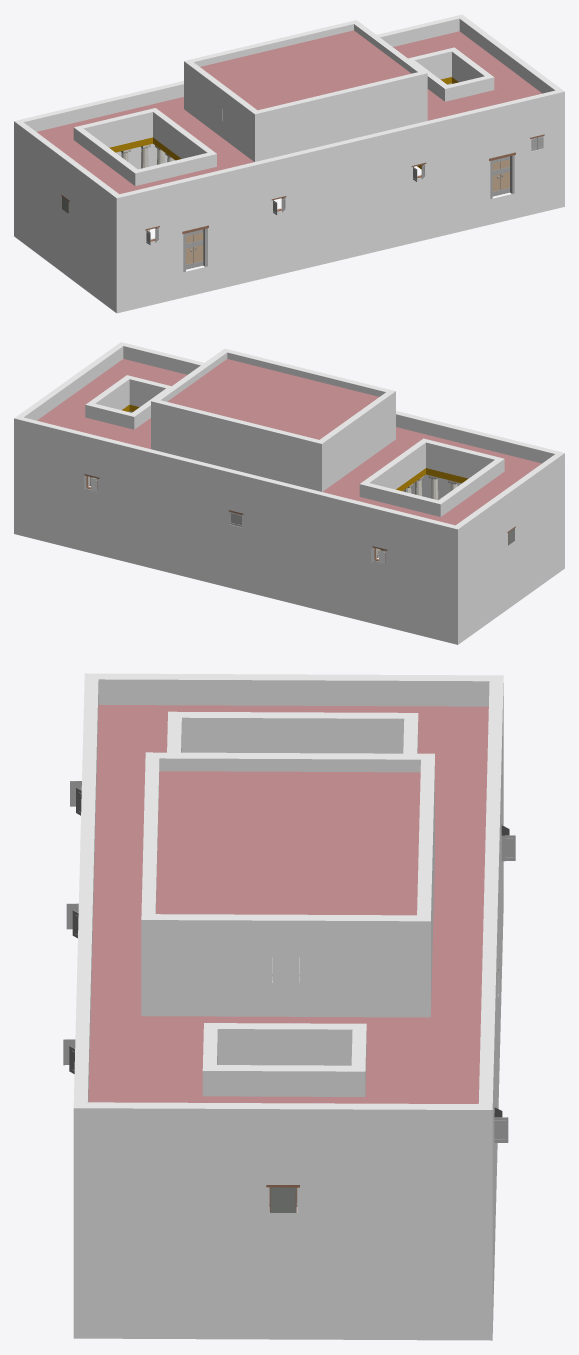
The model's file is LOD_Block_3_21.glb.
The picture shows the model from 3 angles, top to bottom: view 1: azimuth 30°, elevation 25°; view 2: azimuth 150°, elevation 25°; view 3: azimuth 270°, elevation 25°; orthographic projection. The views are drawn at different scales.
Parts seen in each view (by area): view 1: _1.4166; view 2: _1.4166; view 3: _1.4166.
Boxes of the visible parts, x1,y1,x2,y2 form: _1.4166: (14,14,564,313); _1.4166: (14,342,564,644); _1.4166: (63,673,515,1340).
Bounding box in the file's own units: 36.83 × 11.84 × 16.12.
3 materials, 3 textured.
